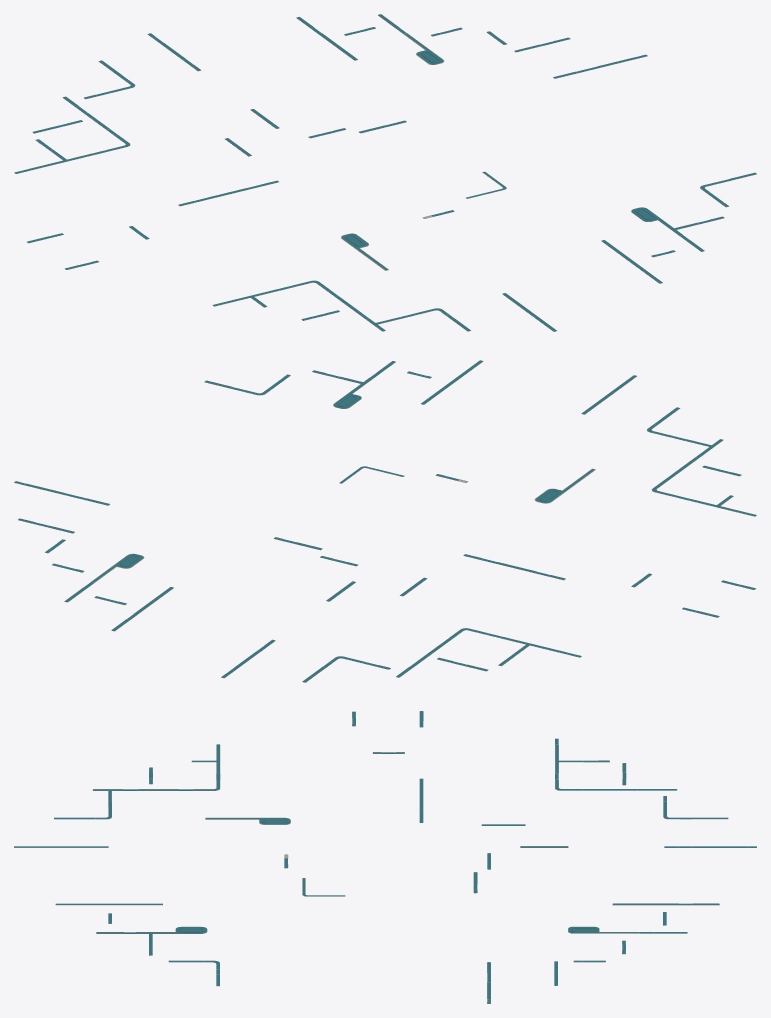
Rendered from Grass_Sidewalks_D7.fbx.
3 views of the same model, one above another, from view 1: azimuth 30°, elevation 25°; view 2: azimuth 150°, elevation 25°; view 3: azimuth 270°, elevation 25° (orthographic). The views are drawn at different scales.
Size of the model in its own units: 219066 by 132 by 235069.
2 materials, 1 textured.
